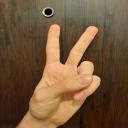PeaceSign: (29, 20, 102, 124)
